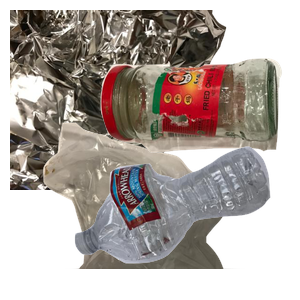glass: (98, 56, 300, 201)
metal: (10, 10, 229, 190)
plastic: (72, 144, 300, 300)
trash: (41, 120, 276, 300)
